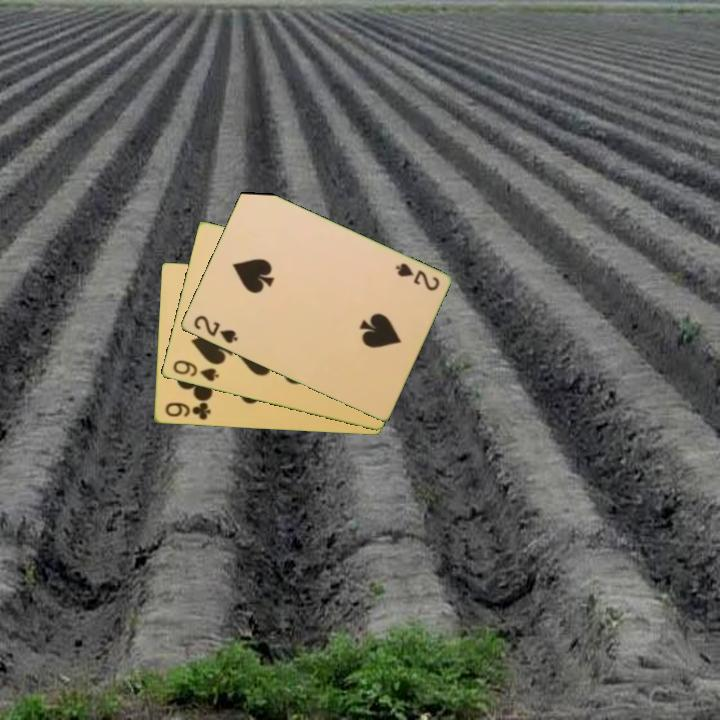2s: (190, 312, 240, 347), (392, 259, 442, 294)
9c: (161, 399, 213, 423)
9s: (169, 356, 221, 385)
